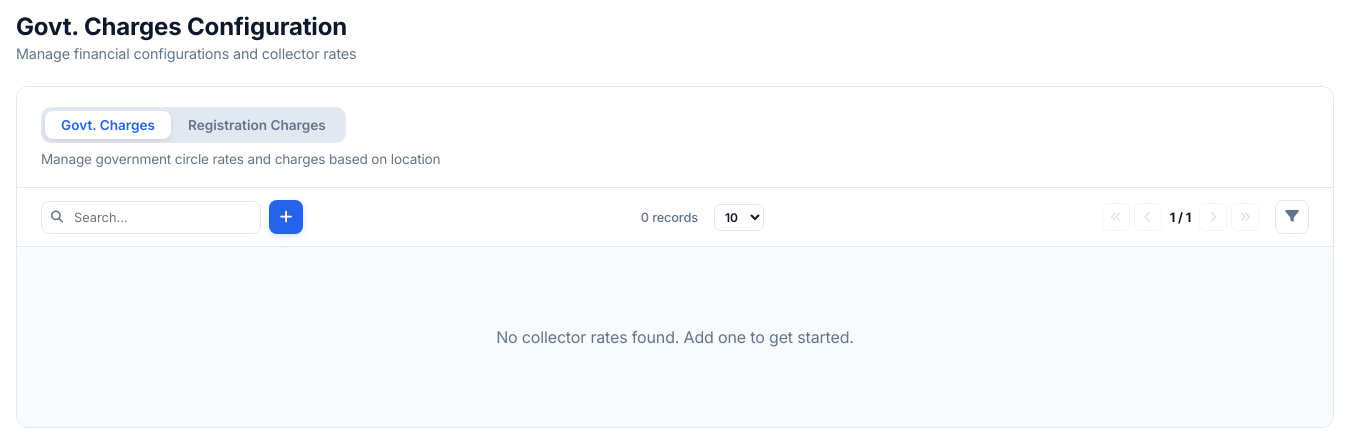
DealSettingsPage with DataTable › renders empty message in Government Charges tab when no charges exist
Click the button "Registration Charges".
click(257, 125)  # box top-left (172, 111), bottom-right (342, 139)
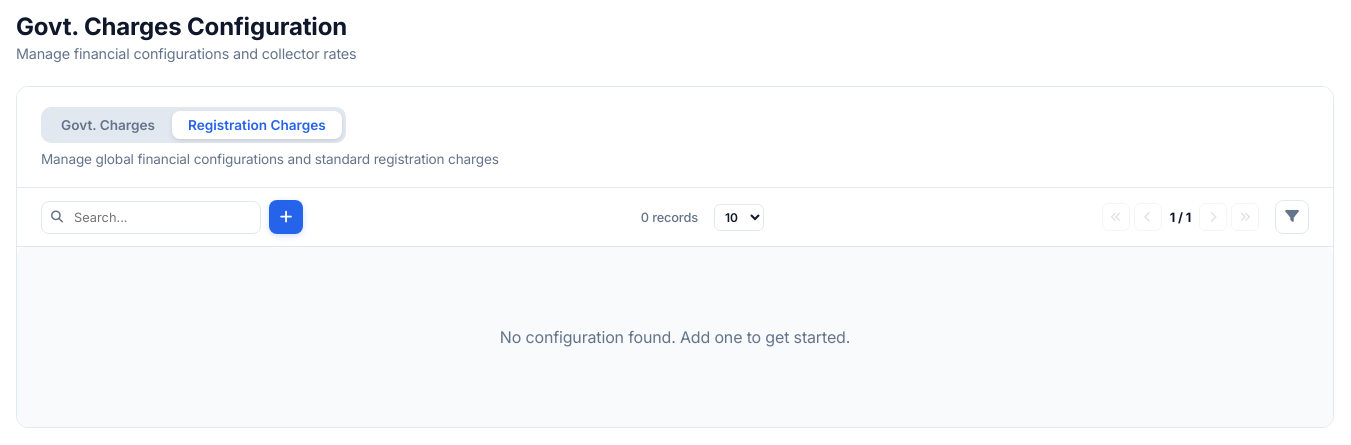
Expected: the text "No configuration found. Add one to get started." is shown, top-left (500, 327), bottom-right (850, 347)
